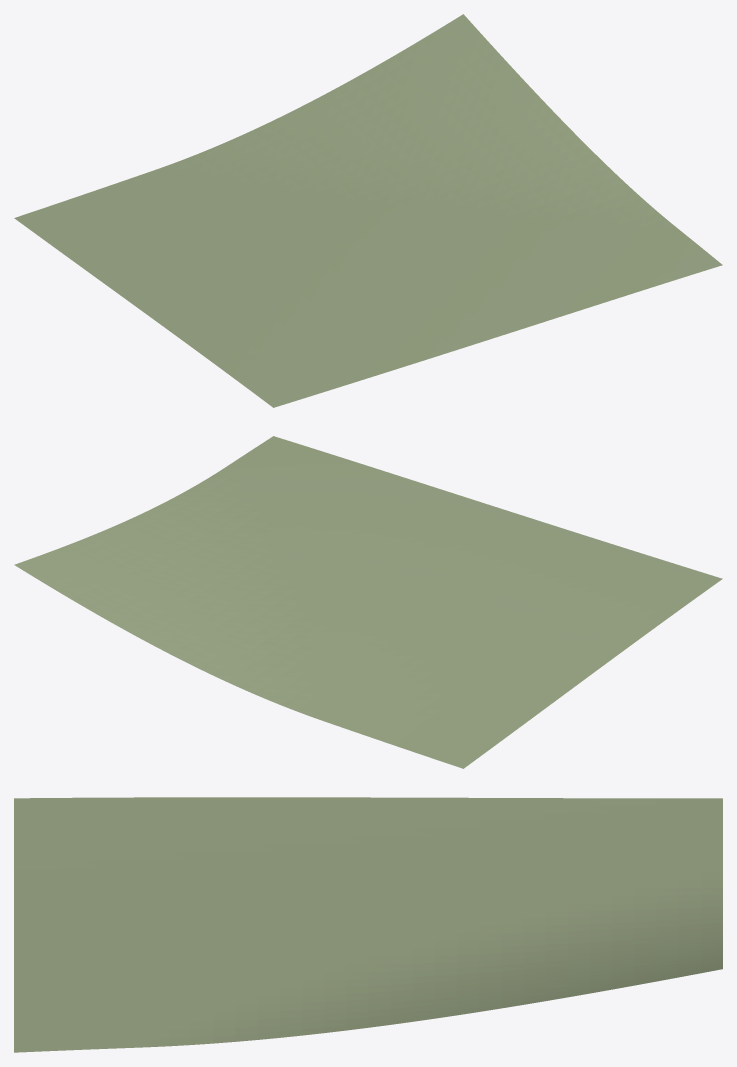
The model's file is expanse-12-8.glb.
3 renders of one model, top to bottom at view 1: azimuth 30°, elevation 25°; view 2: azimuth 150°, elevation 25°; view 3: azimuth 270°, elevation 25°, orthographic. The views are drawn at different scales.
Visible parts, largest first — view 1: expanse-12-8; view 2: expanse-12-8; view 3: expanse-12-8.
Boxes of the visible parts, box(x1,y1,x2,y2) form: expanse-12-8: box(14, 14, 722, 407); expanse-12-8: box(14, 436, 722, 768); expanse-12-8: box(14, 797, 722, 1052).
Bounding box in the file's own units: 256 × 51.38 × 256.
